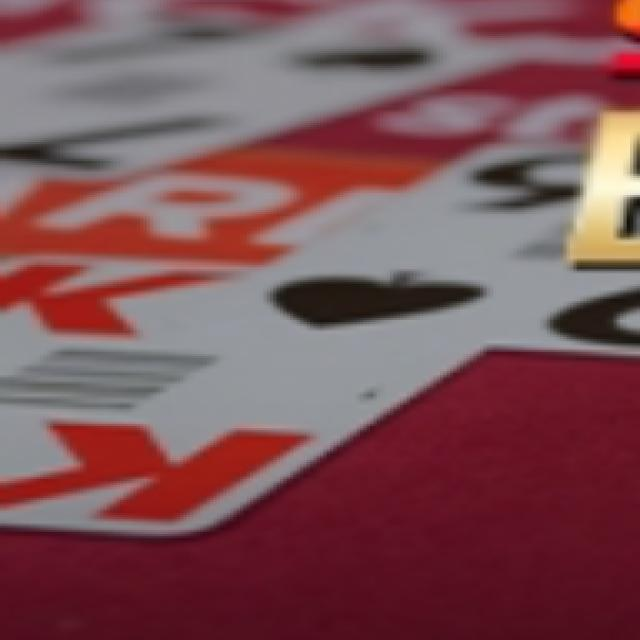Card-7: (0, 15, 527, 183)
Card-9: (216, 143, 639, 356)
Card-K: (0, 260, 478, 535)
